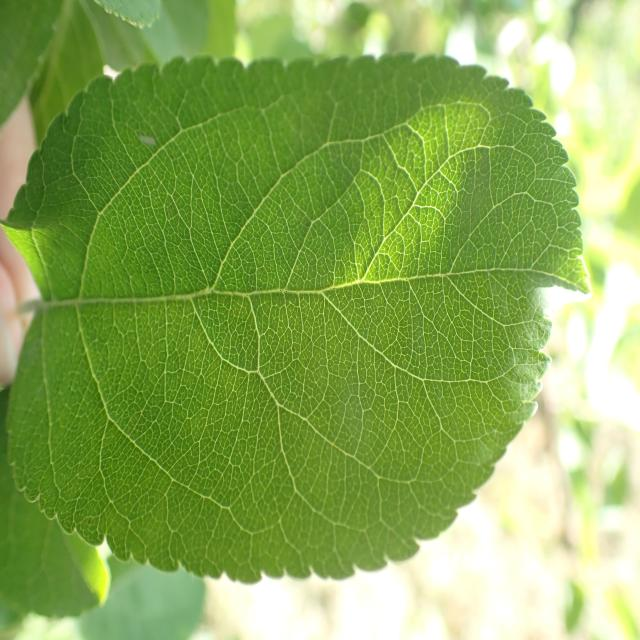healthy: (1, 51, 593, 583), (0, 386, 111, 618)
